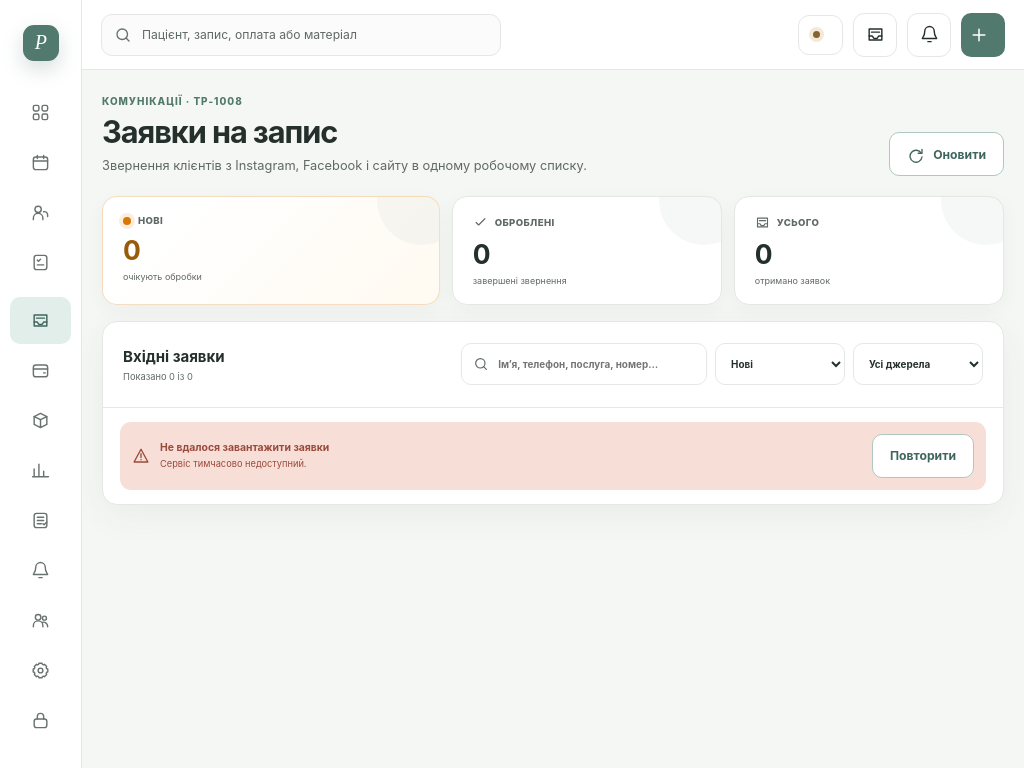
Scenario: BookingRequestsPage › supports empty, error, retry, and cursor load-more states
Expected: the text "Сервіс тимчасово недоступний." is shown, x1=160 y1=457 x2=329 y2=470
Click the button "Повторити" at (923, 456), box x1=872 y1=434 x2=974 y2=478
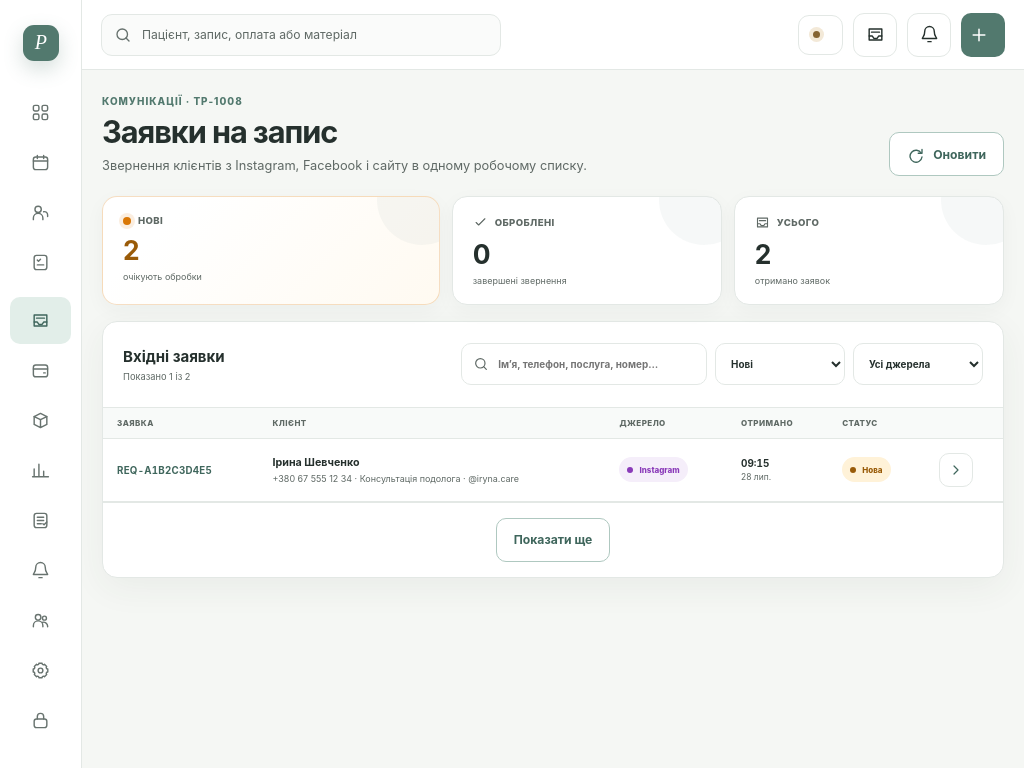
Click the button "Показати ще" at (553, 540), box x1=496 y1=518 x2=610 y2=562
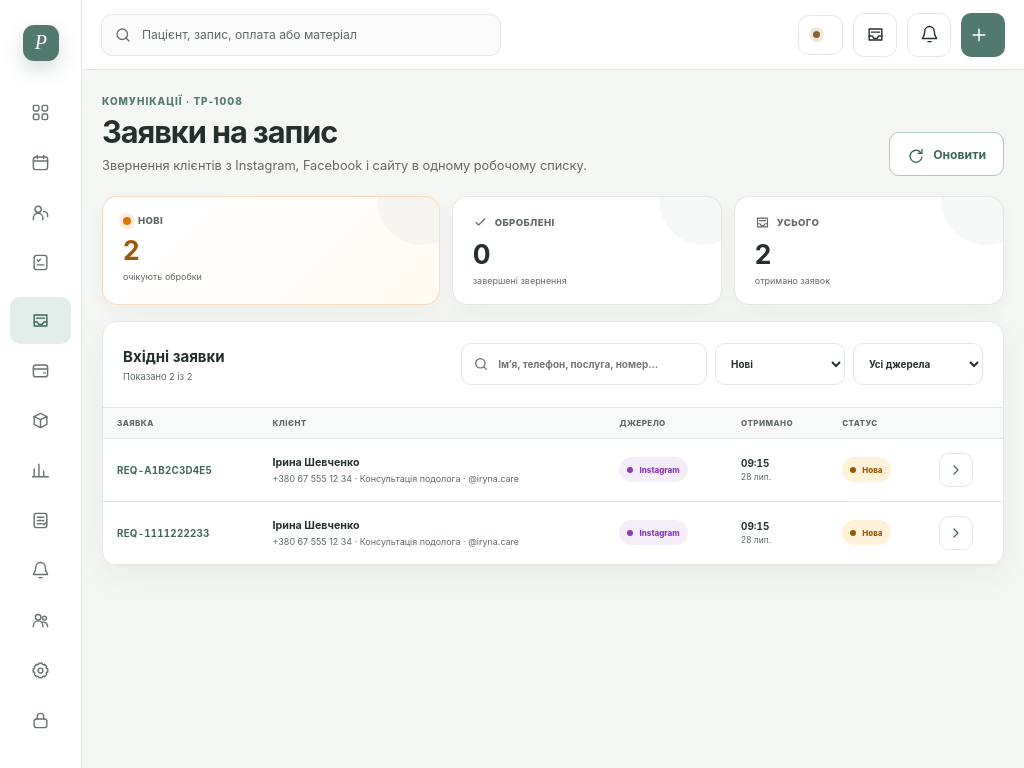
Now the text "REQ-1111222233" is shown, box x1=117 y1=528 x2=210 y2=538
Now the button "Показати ще" is gone
